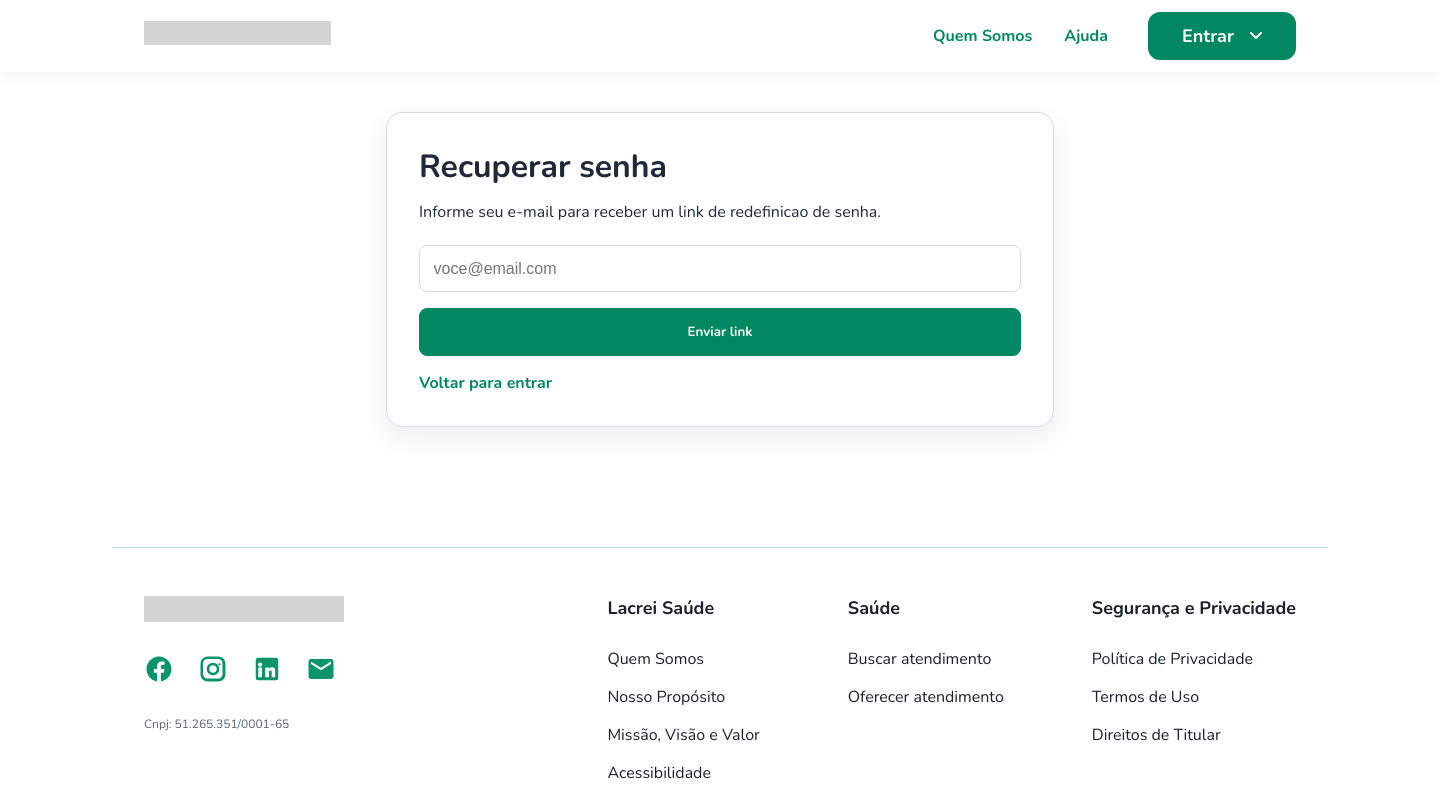
Scenario: Fluxo 1.2L - Recuperar senha › 1.2L - 2 exibe estado de e-mail fora do formato
In the field: (720, 269) [419,245,1021,292], type "email-invalido"
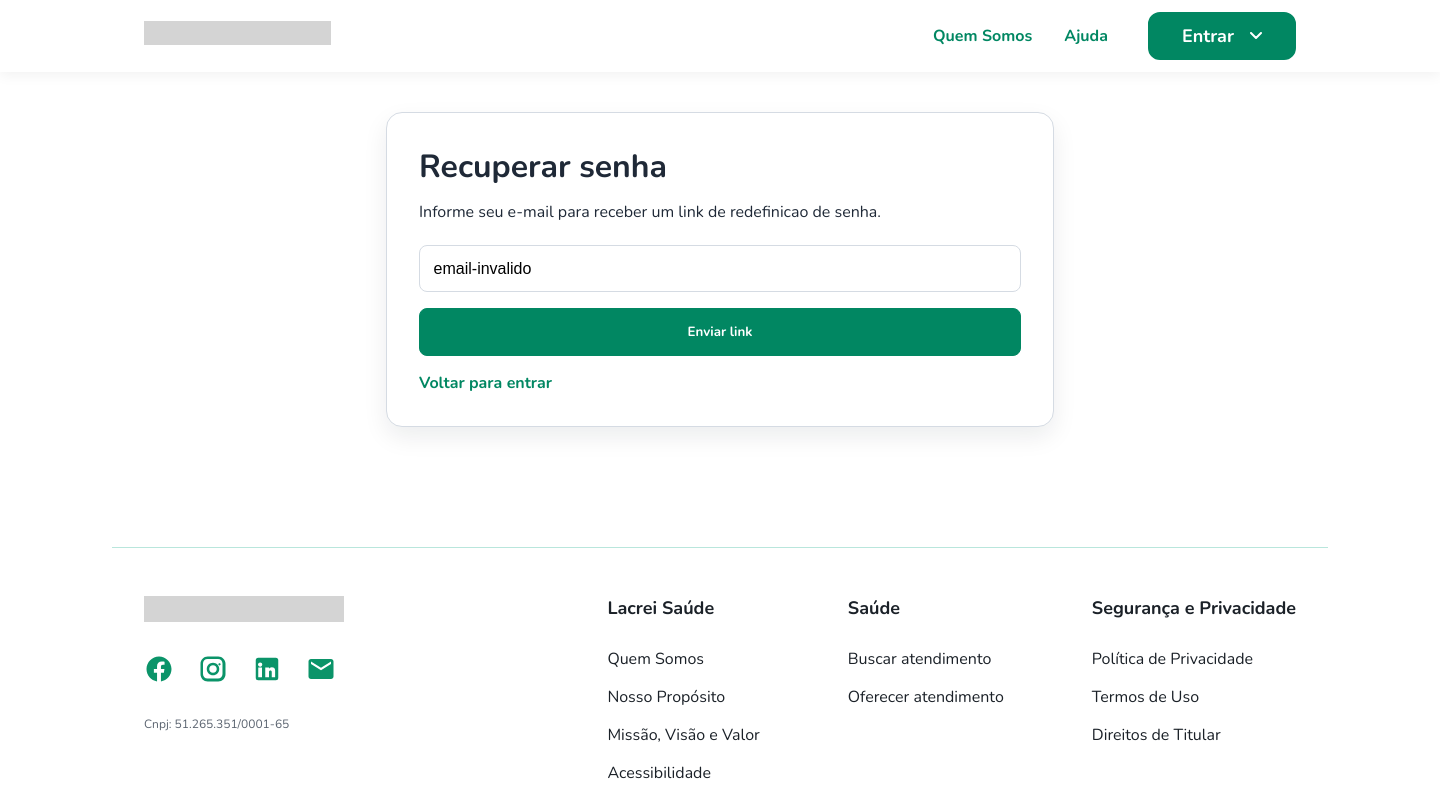
Click the button "Enviar link": click(720, 332) [419,308,1021,356]
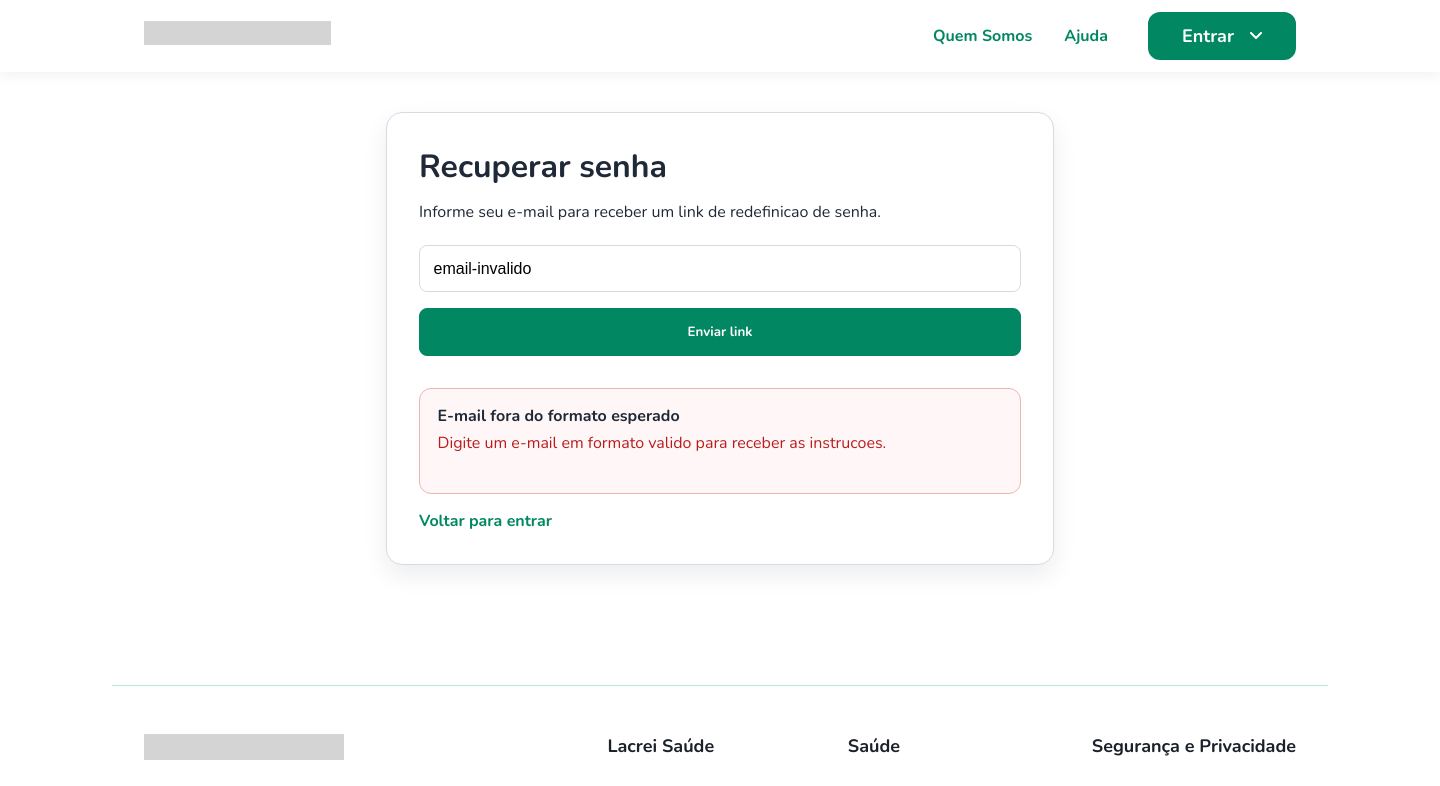
Result: the text "E-mail fora do formato esperado" is shown at [438,405,680,427]
Result: the text "Digite um e-mail em formato valido para receber as instrucoes." is shown at [438,432,886,454]
